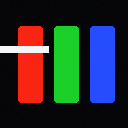3 line_h: (0, 46, 48, 52)
